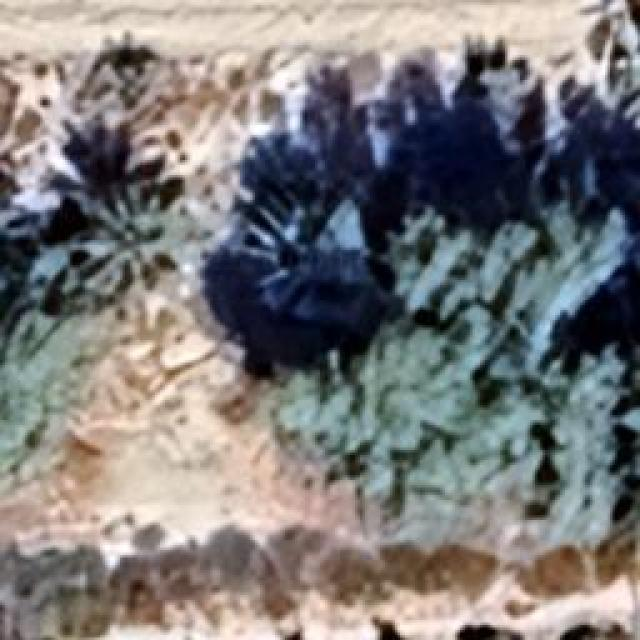PalmTree: (71, 55, 605, 256), (72, 192, 212, 326), (0, 180, 31, 302)
